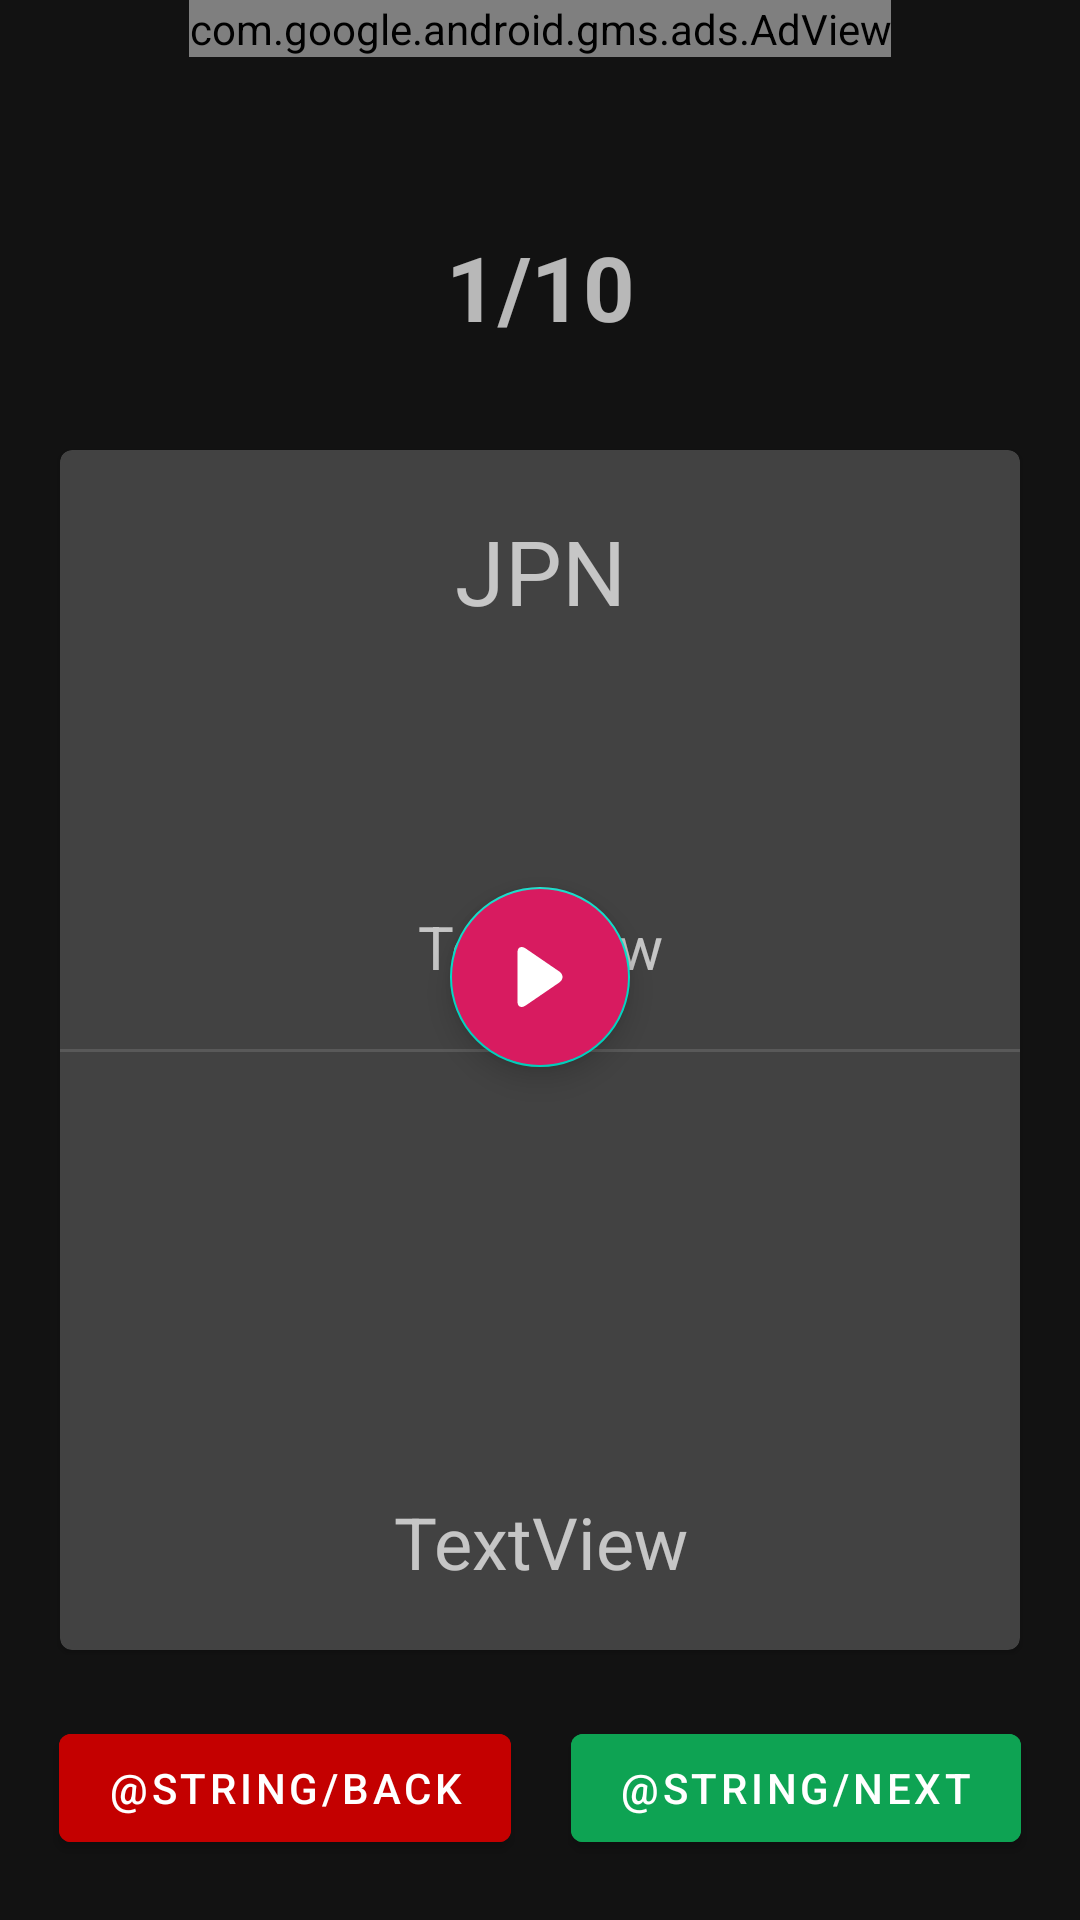

Named icons in this screenshot (1080*1920) and their bounding boxes, (x1, y1, x2, y2):
play: (517, 947, 563, 1007)
